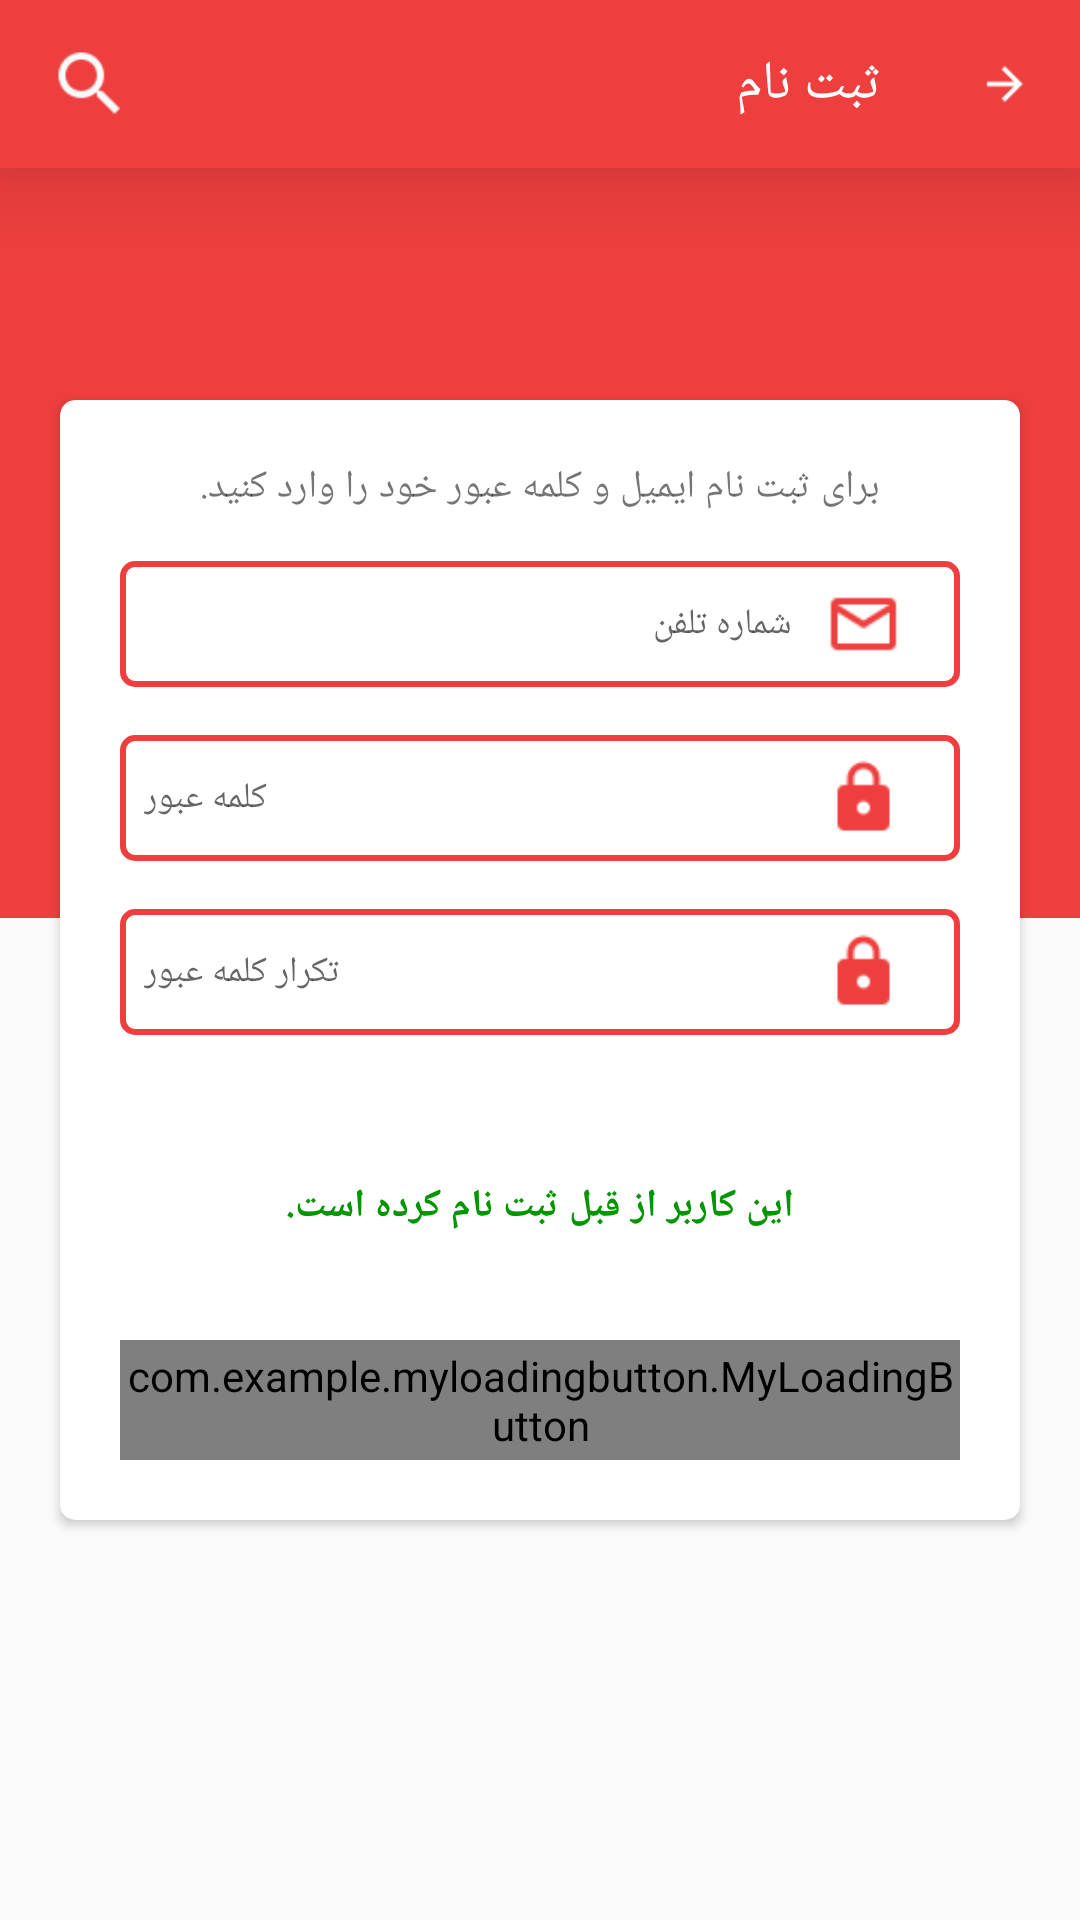

Icon bounding boxes for this 1080 x 1920 phone screenshot, format [x1, y1, x2, y2]:
email: [830, 597, 897, 651]
lock: [837, 761, 890, 831], [837, 935, 890, 1005]
search: [58, 52, 120, 114]
